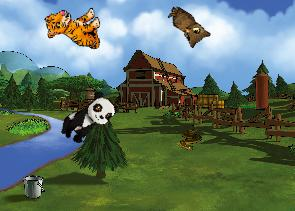owl: (159, 4, 213, 52)
panda: (55, 87, 121, 150)
tiger: (43, 2, 105, 57)
